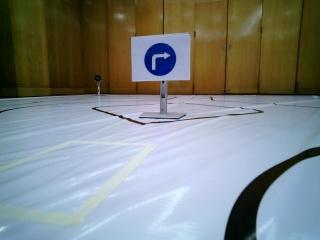right: (134, 40, 188, 79)
